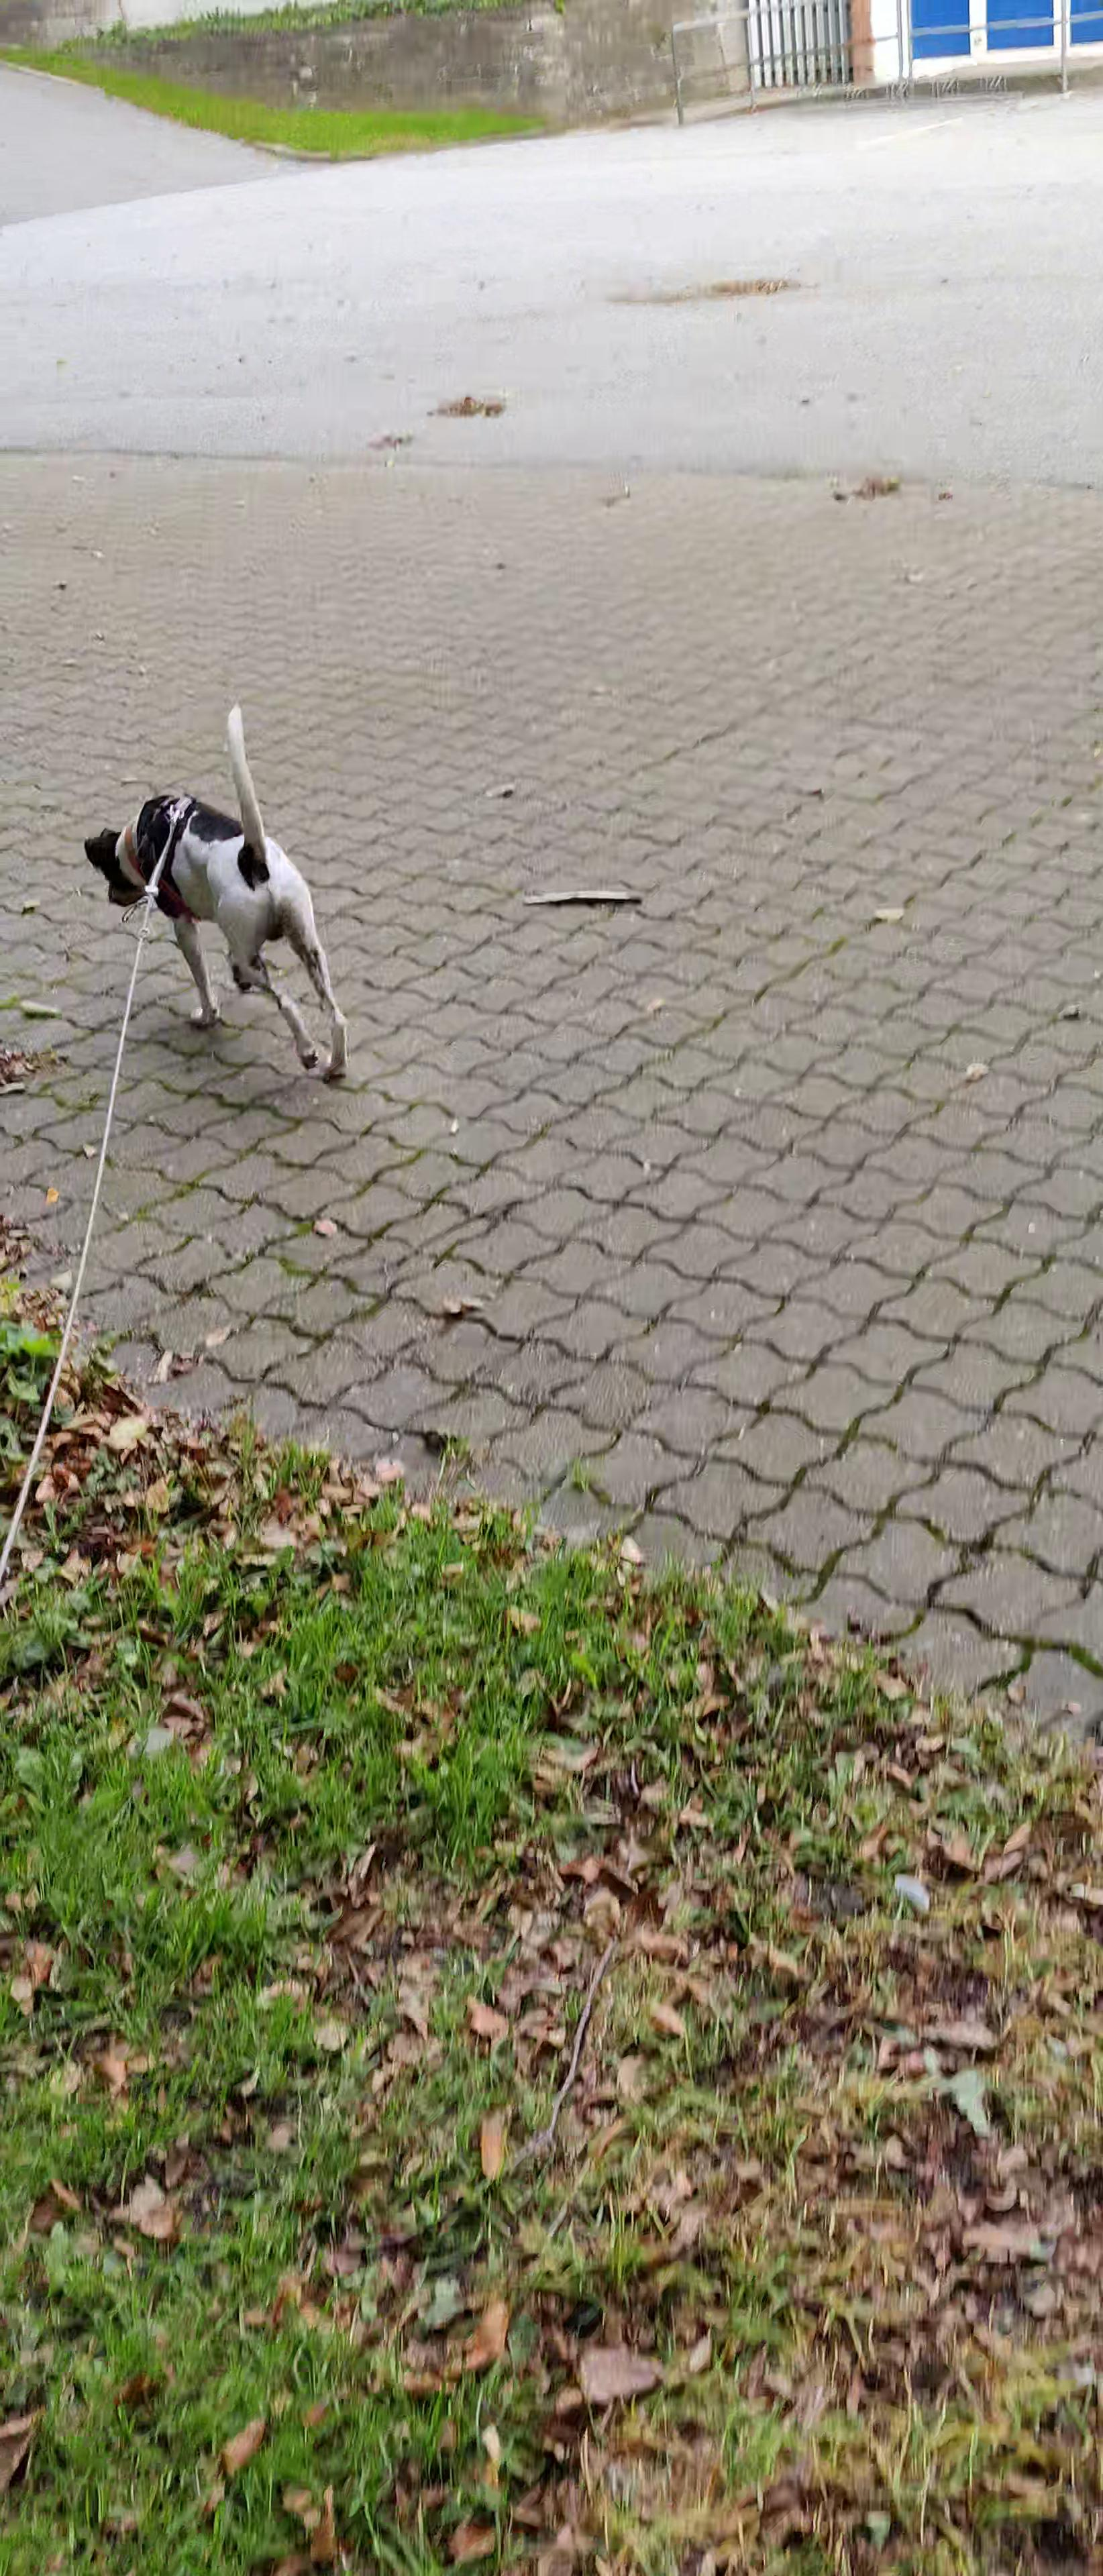Dog: (77, 692, 348, 1086)
